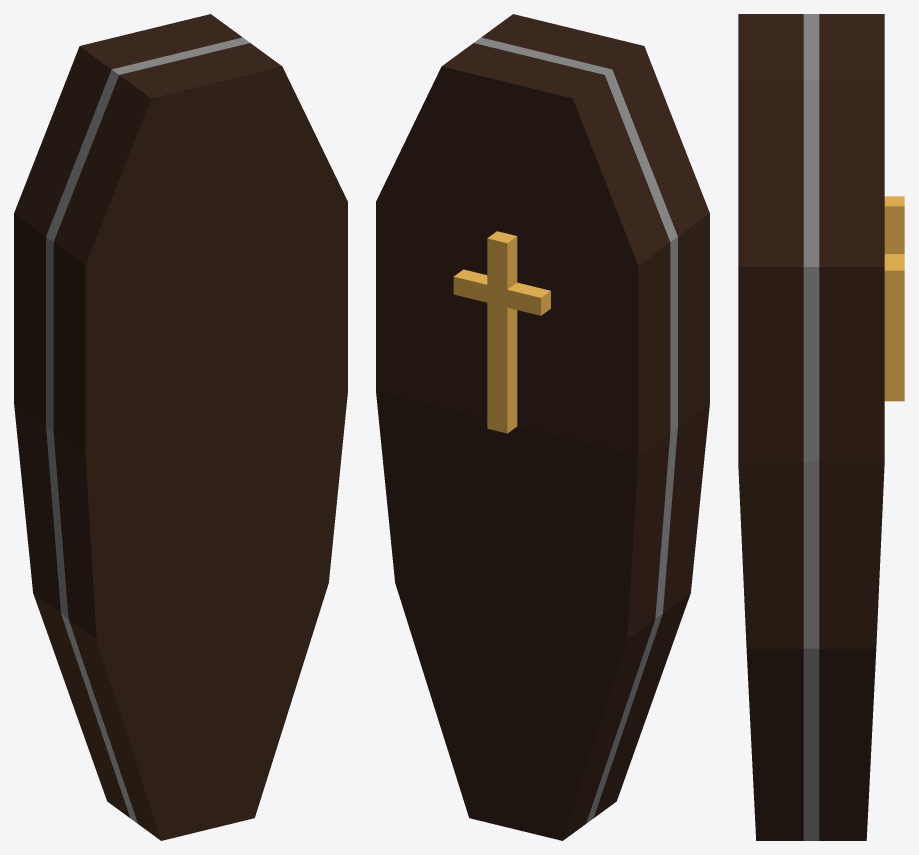
File: Coffin.glb
3 views of the same model, side by side, from view 1: azimuth 30°, elevation 25°; view 2: azimuth 150°, elevation 25°; view 3: azimuth 270°, elevation 25° (orthographic). The views are drawn at different scales.
Visible parts, largest first — view 1: coffin; view 2: coffin; view 3: coffin.
Part boxes in pixels (box(x1,y1,x2,y2)): coffin: box(14, 14, 347, 840); coffin: box(376, 14, 709, 840); coffin: box(738, 14, 904, 840).
Size of the model in its own units: 5.29 by 14.54 by 2.85.
1 material, 1 textured.
